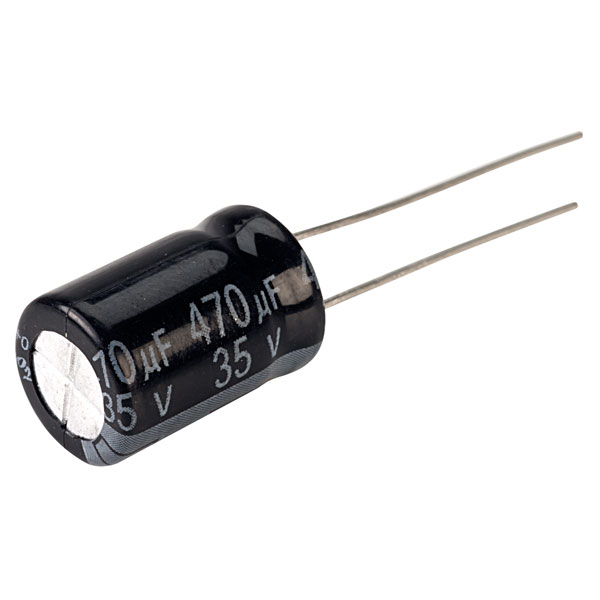Capacitor: (13, 204, 328, 468)
